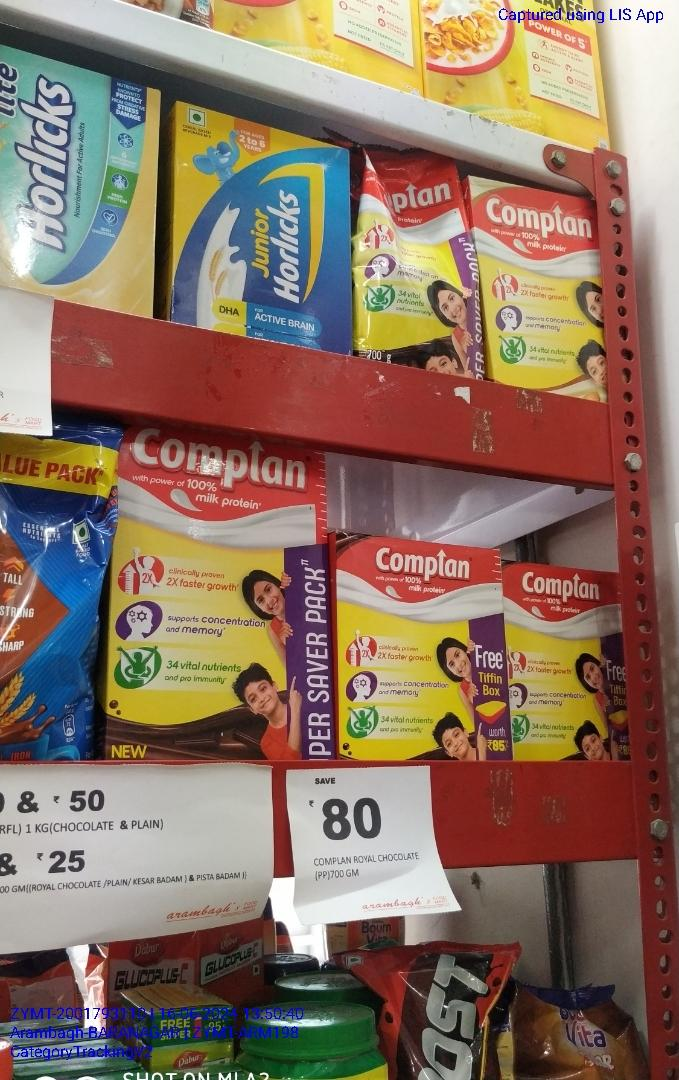COMPLAN_CHOCOLATE_1_KG_PACK: (114, 429, 329, 758)
COMPLAN_RC_POUCH_700_GMS_12: (360, 146, 480, 374)
